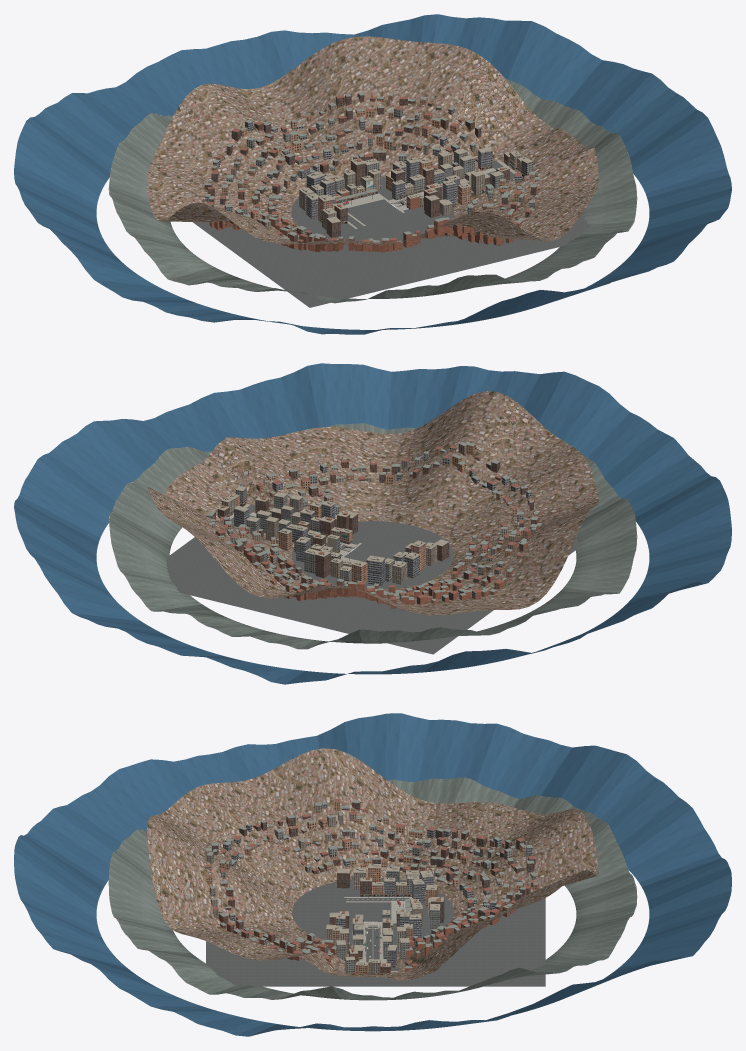
The model's file is PanoramaVillazon.obj.
3 renders of one model, top to bottom at view 1: azimuth 30°, elevation 25°; view 2: azimuth 150°, elevation 25°; view 3: azimuth 270°, elevation 25°, orthographic.
Parts seen in each view (by area): view 1: 11_Cordones_de_montana, 09_Laderas_del_valle, 01_Calzada_y_aceras, 10_Barrio_en_ladera, 07_Fachadas_de_la_avenida, 08_Manzanas_del_costado, 03_Azoteas_del_mercado; view 2: 11_Cordones_de_montana, 09_Laderas_del_valle, 01_Calzada_y_aceras, 10_Barrio_en_ladera, 07_Fachadas_de_la_avenida, 08_Manzanas_del_costado, 03_Azoteas_del_mercado; view 3: 11_Cordones_de_montana, 09_Laderas_del_valle, 01_Calzada_y_aceras, 10_Barrio_en_ladera, 07_Fachadas_de_la_avenida, 08_Manzanas_del_costado, 03_Azoteas_del_mercado, 06_Avenida_en_pendiente.
Part boxes in pixels (left/top/right/bottom): 11_Cordones_de_montana: left=14, top=14, right=731, bottom=334; 09_Laderas_del_valle: left=147, top=36, right=598, bottom=245; 01_Calzada_y_aceras: left=192, top=177, right=590, bottom=307; 10_Barrio_en_ladera: left=204, top=92, right=540, bottom=252; 07_Fachadas_de_la_avenida: left=391, top=147, right=533, bottom=209; 08_Manzanas_del_costado: left=299, top=161, right=452, bottom=237; 03_Azoteas_del_mercado: left=306, top=158, right=381, bottom=198; 11_Cordones_de_montana: left=14, top=363, right=731, bottom=684; 09_Laderas_del_valle: left=147, top=391, right=598, bottom=615; 01_Calzada_y_aceras: left=166, top=521, right=580, bottom=654; 10_Barrio_en_ladera: left=206, top=442, right=541, bottom=611; 07_Fachadas_de_la_avenida: left=217, top=486, right=352, bottom=553; 08_Manzanas_del_costado: left=296, top=511, right=449, bottom=584; 03_Azoteas_del_mercado: left=304, top=546, right=384, bottom=585; 11_Cordones_de_montana: left=14, top=713, right=731, bottom=1036; 09_Laderas_del_valle: left=147, top=748, right=598, bottom=980; 01_Calzada_y_aceras: left=206, top=878, right=545, bottom=986; 10_Barrio_en_ladera: left=204, top=799, right=538, bottom=971; 07_Fachadas_de_la_avenida: left=333, top=909, right=413, bottom=974; 08_Manzanas_del_costado: left=326, top=863, right=421, bottom=939; 03_Azoteas_del_mercado: left=409, top=870, right=444, bottom=929; 06_Avenida_en_pendiente: left=344, top=926, right=398, bottom=971.
Size of the model in its own units: 856 by 116 by 856.
6 materials, 6 textured.
